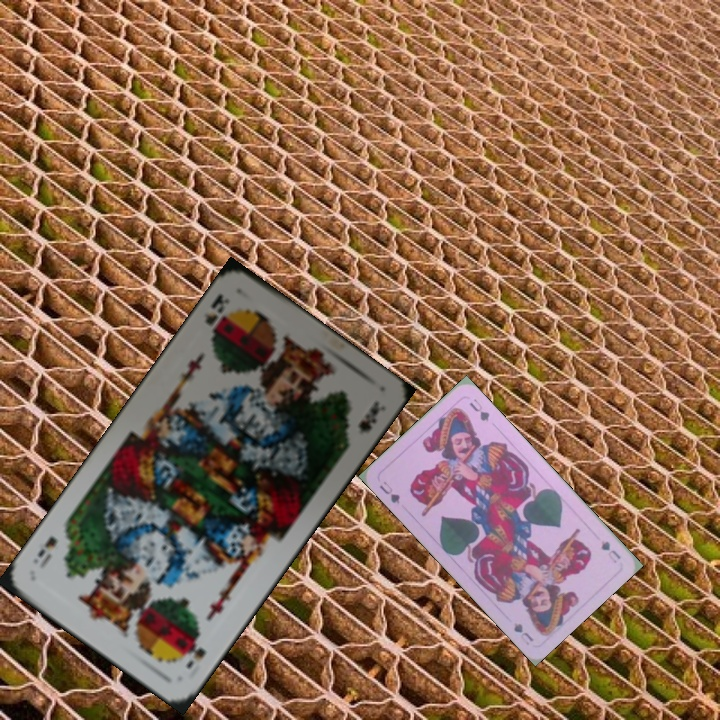GU: (375, 477, 403, 506), (597, 537, 624, 566)
SK: (199, 289, 232, 328), (182, 639, 209, 672)
